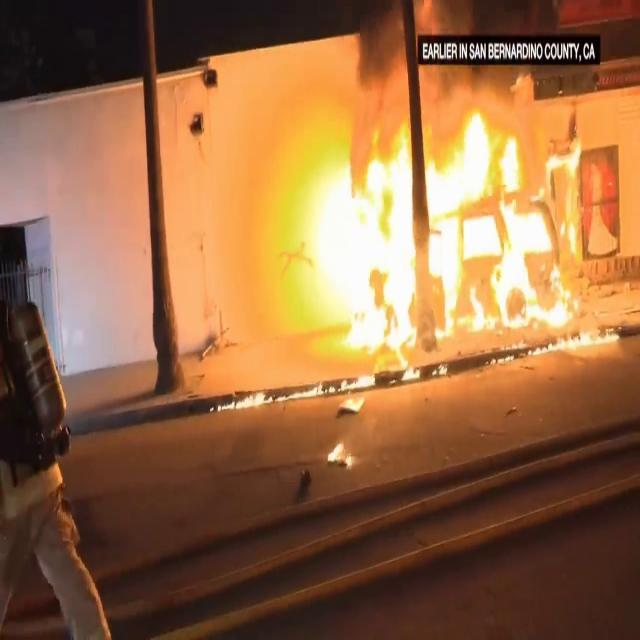Fire: (273, 93, 586, 359)
